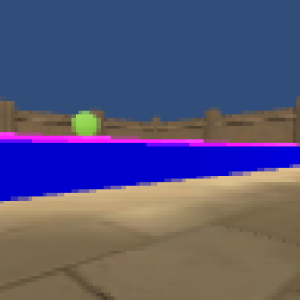goodGoal: (69, 109, 104, 137)
platform: (1, 146, 300, 198)
ramp: (1, 129, 295, 148)
